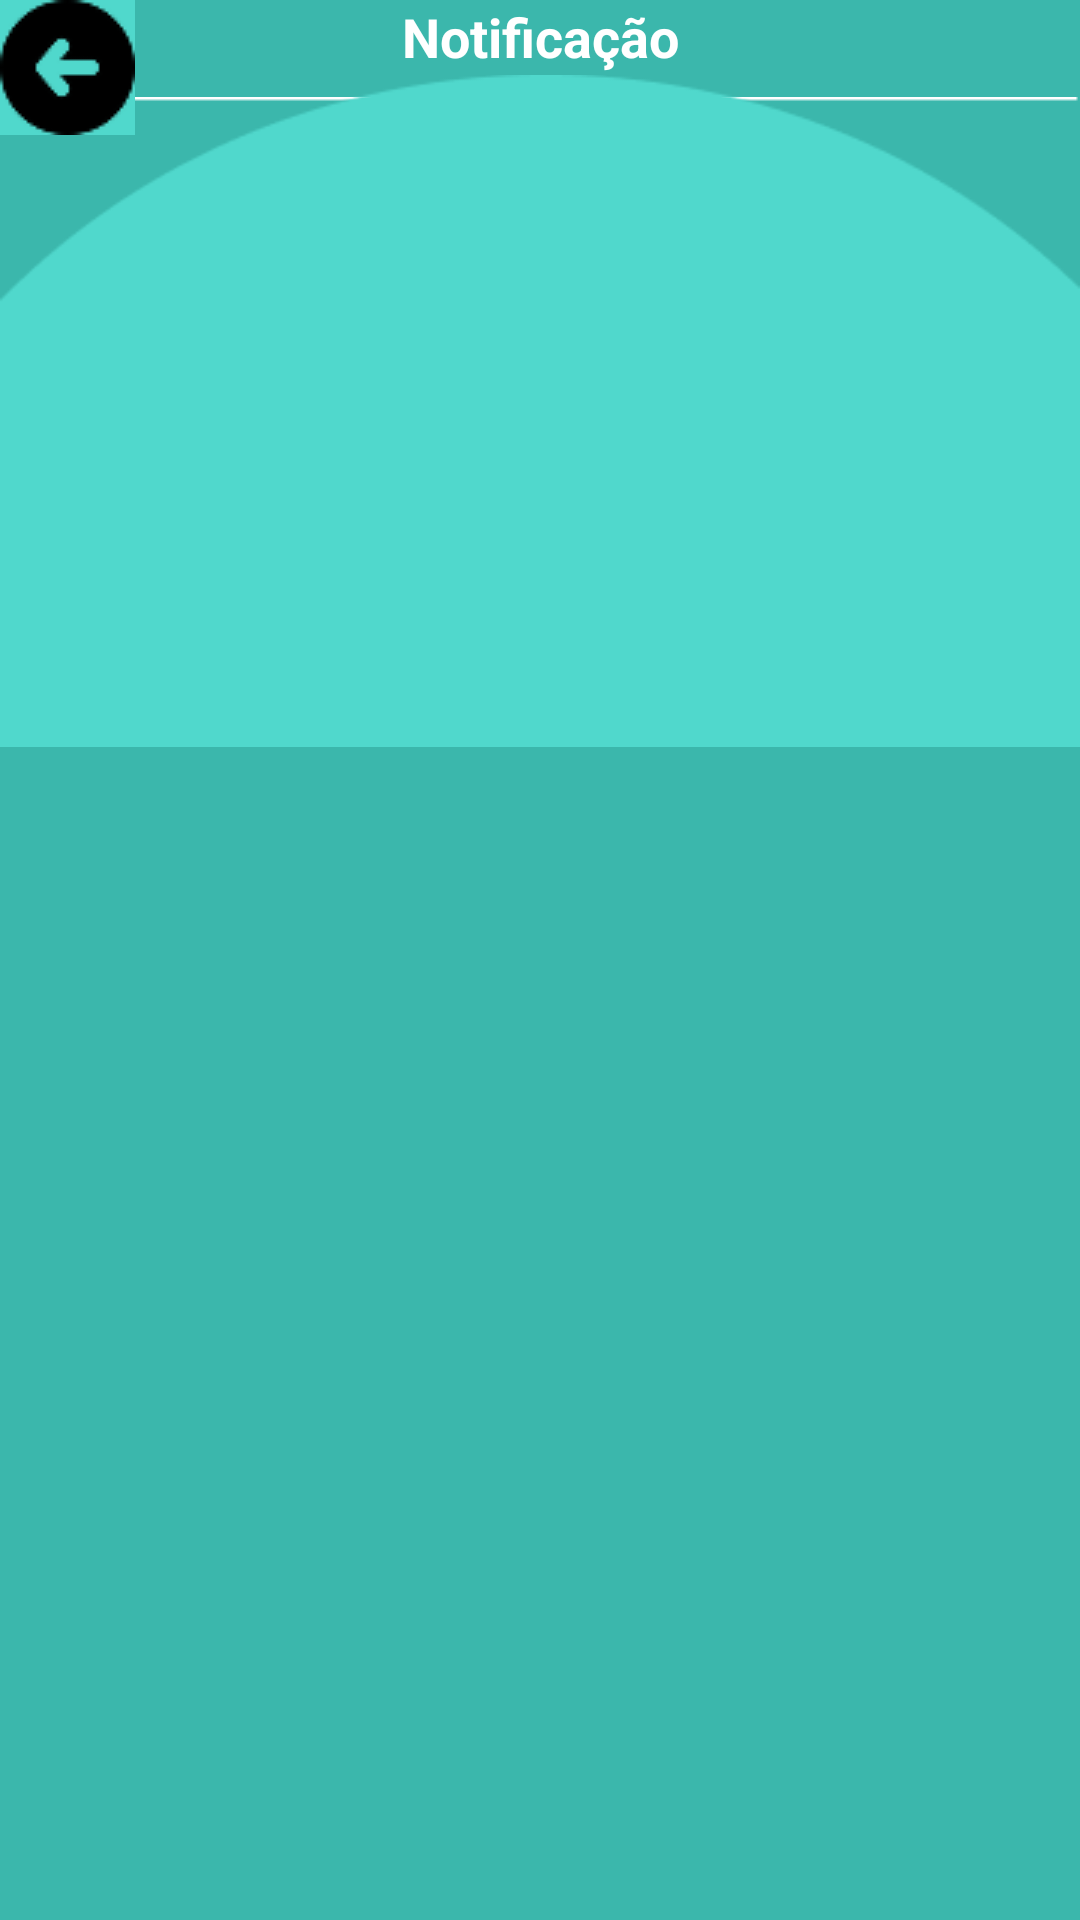

Where icons sit on this 1080w x 1920h app screen, as (x1, y1, x2, y2):
voltar: (0, 0, 135, 135)
